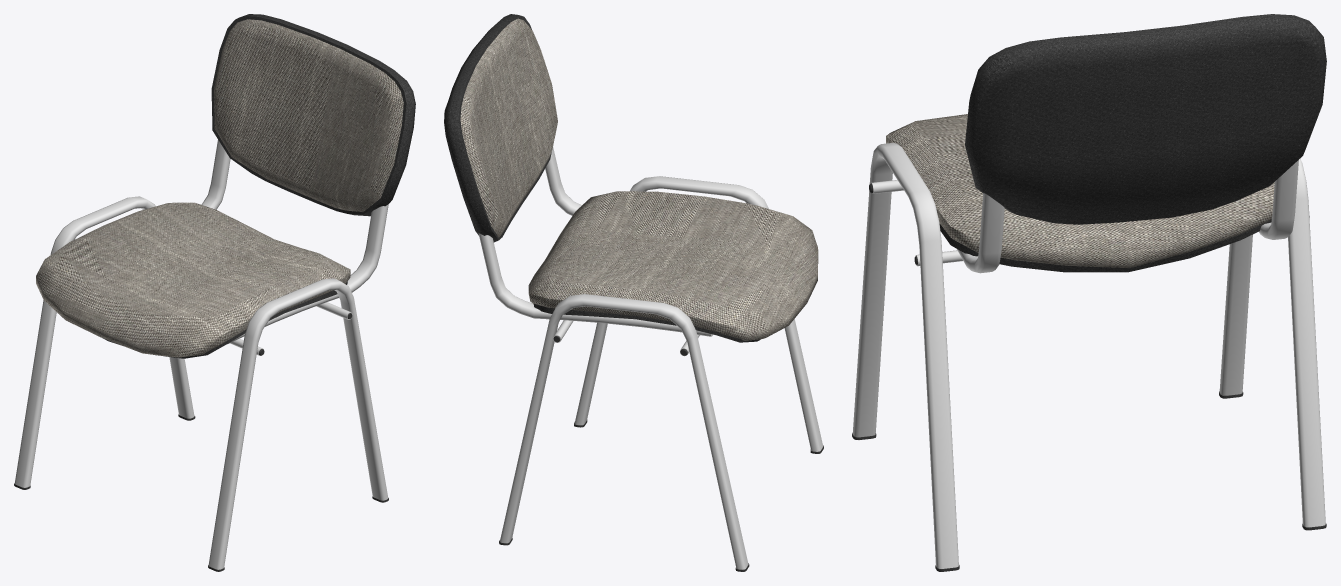
File: office_chair_low-poly.glb
The picture shows the model from 3 angles, left to right: view 1: azimuth 30°, elevation 25°; view 2: azimuth 150°, elevation 25°; view 3: azimuth 270°, elevation 25°; orthographic projection. The views are drawn at different scales.
Parts seen in each view (by area): view 1: sidushka.001, spinka.001, BezierCurve.003, spinka, BezierCurve.004, sidushka; view 2: sidushka.001, spinka.001, BezierCurve.003, spinka, BezierCurve.004, sidushka; view 3: spinka, BezierCurve.003, sidushka.001, BezierCurve.004, sidushka.
Part boxes in pixels (left/top/right/bottom): sidushka.001: left=36, top=202, right=350, bottom=357; spinka.001: left=214, top=19, right=403, bottom=211; BezierCurve.003: left=14, top=196, right=388, bottom=569; spinka: left=211, top=14, right=415, bottom=216; BezierCurve.004: left=201, top=140, right=388, bottom=344; sidushka: left=103, top=281, right=347, bottom=358; sidushka.001: left=528, top=191, right=818, bottom=340; spinka.001: left=460, top=18, right=557, bottom=237; BezierCurve.003: left=500, top=176, right=823, bottom=569; spinka: left=444, top=14, right=551, bottom=242; BezierCurve.004: left=478, top=147, right=712, bottom=336; sidushka: left=533, top=303, right=760, bottom=342; spinka: left=965, top=14, right=1326, bottom=224; BezierCurve.003: left=852, top=142, right=1325, bottom=568; sidushka.001: left=886, top=114, right=1274, bottom=268; BezierCurve.004: left=957, top=160, right=1298, bottom=273; sidushka: left=939, top=219, right=1271, bottom=272.
Size of what is drawn, in the model's own units: 0.7325 by 0.8951 by 0.6961.
3 materials, 2 textured.
